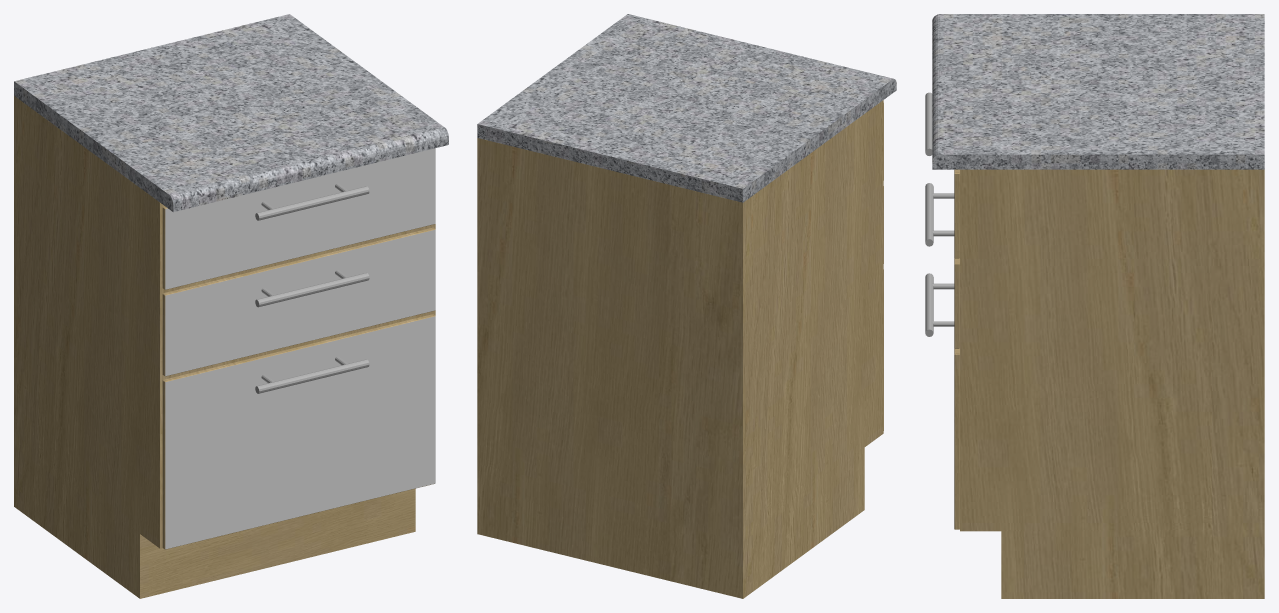
The model's file is drawersCabinet.obj.
The picture shows the model from 3 angles, left to right: view 1: azimuth 30°, elevation 25°; view 2: azimuth 150°, elevation 25°; view 3: azimuth 270°, elevation 25°; orthographic projection. The views are drawn at different scales.
Visible parts, largest first — view 1: GC_25H/25H/50H.001_Cube.327; view 2: GC_25H/25H/50H.001_Cube.327; view 3: GC_25H/25H/50H.001_Cube.327.
Boxes of the visible parts, bbox=[...] form: GC_25H/25H/50H.001_Cube.327: bbox=[14, 14, 448, 598]; GC_25H/25H/50H.001_Cube.327: bbox=[477, 14, 896, 598]; GC_25H/25H/50H.001_Cube.327: bbox=[925, 14, 1264, 598].
Bounding box in the file's own units: 60 × 88.48 × 61.25.
